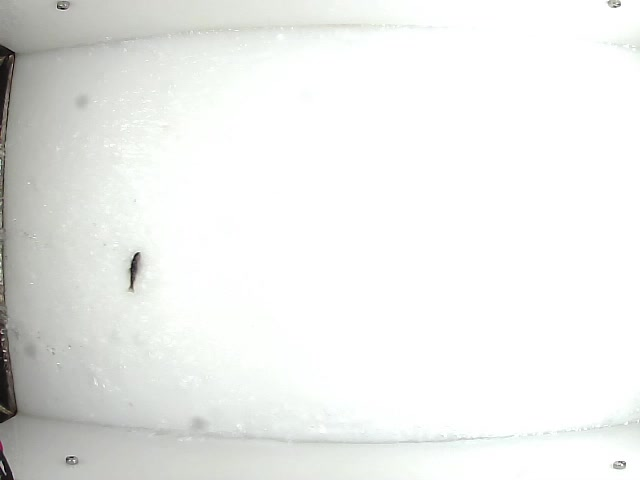fish: (124, 250, 144, 293)
